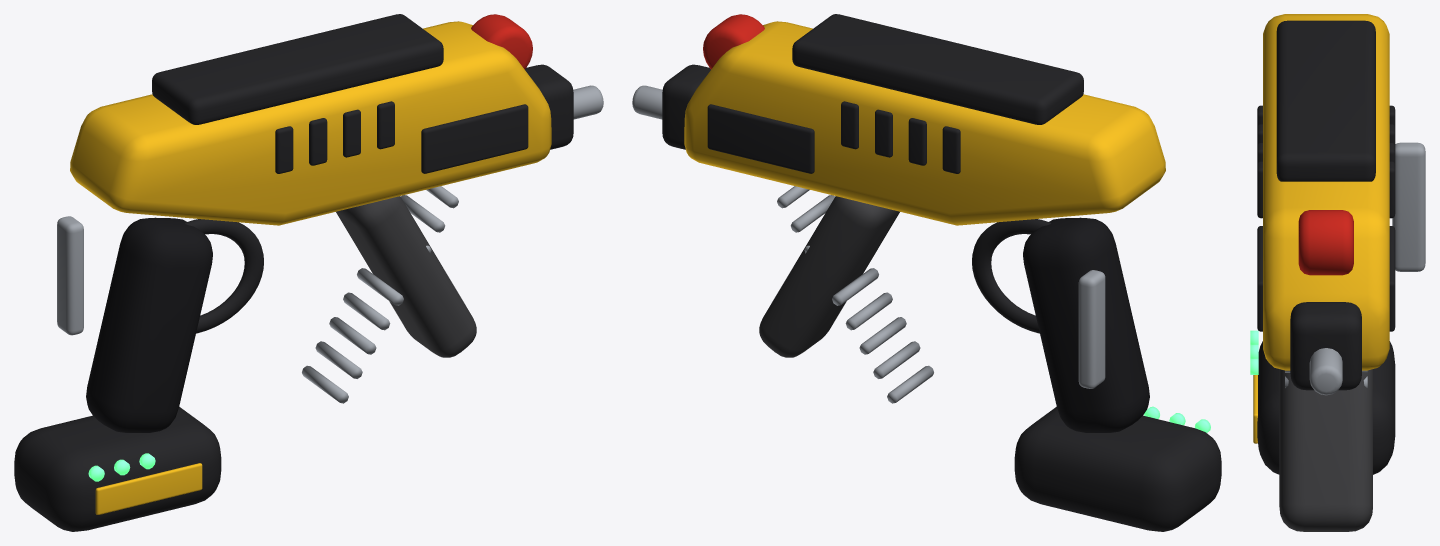
The model's file is nailgun.glb.
3 renders of one model, left to right at view 1: azimuth 30°, elevation 25°; view 2: azimuth 150°, elevation 25°; view 3: azimuth 270°, elevation 25°, orthographic. The views are drawn at different scales.
Visible parts, largest first — view 1: nailgun; view 2: nailgun; view 3: nailgun.
Part boxes in pixels (box(x1,y1,x2,y2)): nailgun: box(14, 14, 603, 531); nailgun: box(632, 14, 1221, 531); nailgun: box(1250, 14, 1425, 531).
Size of the model in its own units: 0.267 by 0.1825 by 0.0635.
